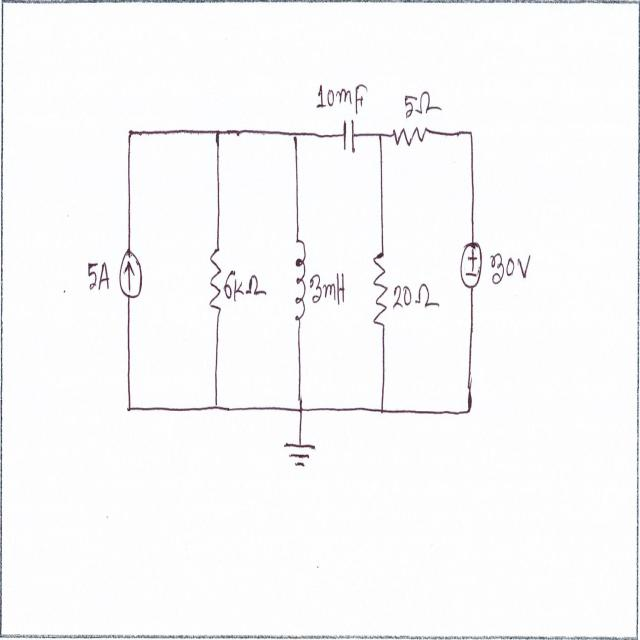capacitor: (341, 114, 358, 156)
current_source: (116, 245, 146, 302)
ground: (282, 432, 316, 476)
inductor: (294, 240, 308, 324)
resistor: (372, 247, 388, 332), (208, 245, 224, 315), (392, 125, 430, 154)
voltage_source: (460, 238, 483, 292)
